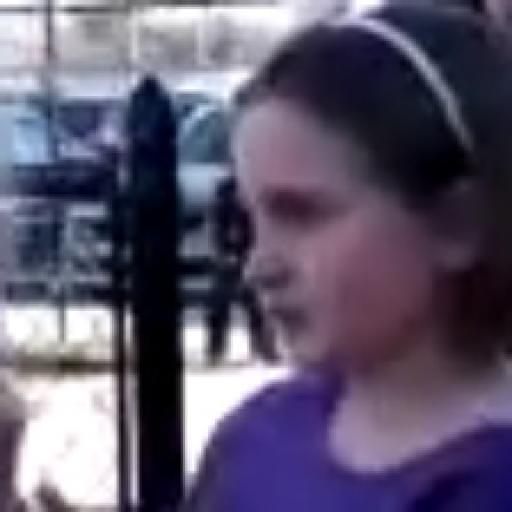Autism: (196, 34, 512, 425)
